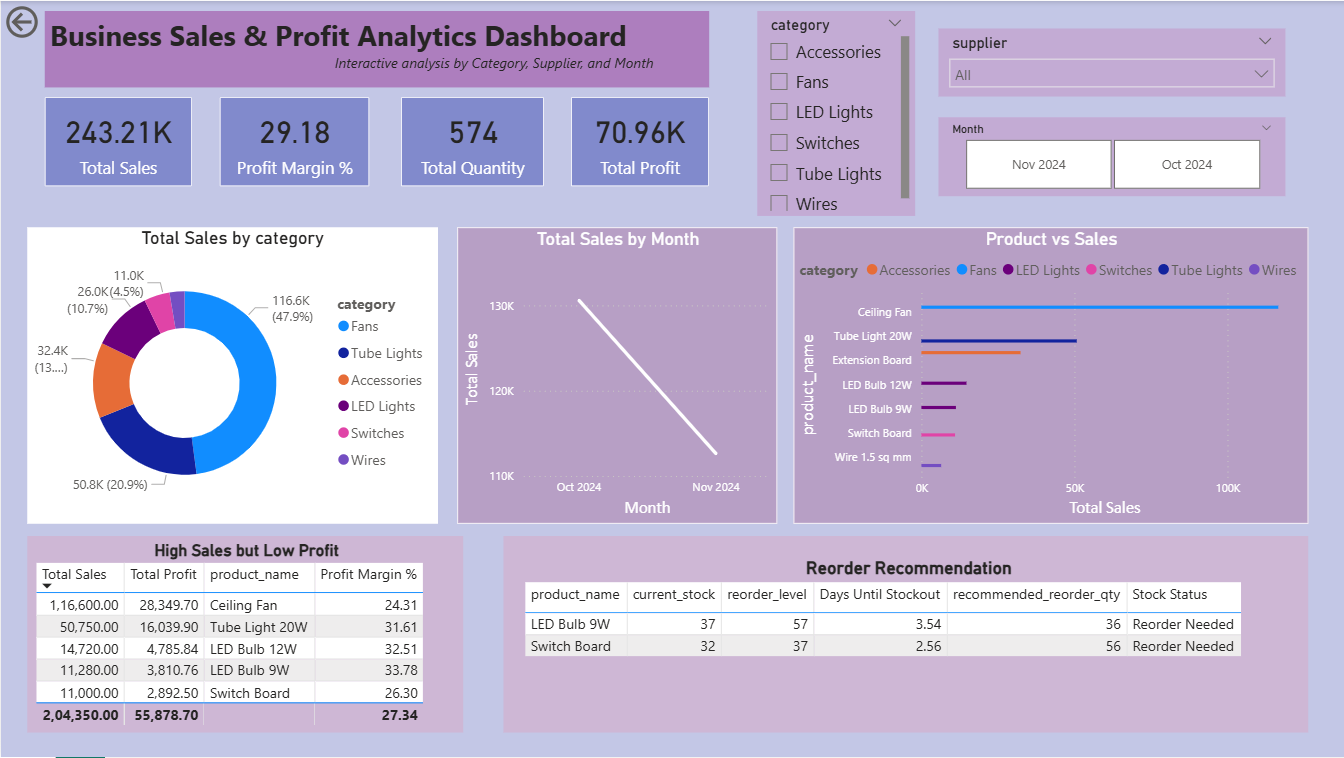

Layout of this report page (visuals, bound fields, positions):
{"tool":"powerbi","page":{"name":"Page 1","canvas":[1280,720],"ordinal":0},"visuals":[{"type":"card","fields":{"Values":["sales_data.Total Sales"]},"box":[41.2,91.2,140,85],"z":0},{"type":"card","fields":{"Values":["sales_data.Total Profit"]},"box":[542.5,91.2,131.2,85],"z":1000},{"type":"card","fields":{"Values":["sales_data.Total Quantity"]},"box":[381.2,91.2,136.2,85],"z":2000},{"type":"card","fields":{"Values":["sales_data.Profit Margin %"]},"box":[208.8,91.2,142.5,85],"z":3000},{"type":"tableEx","title":"High Sales but Low Profit","fields":{"Values":["sales_data.Total Sales","sales_data.Total Profit","sales_data.product_name","sales_data.Profit Margin %"]},"box":[25,510,415,187.5],"z":4000},{"type":"tableEx","title":"Reorder Recommendation","fields":{"Values":["inventory_data.product_name","inventory_data.current_stock","inventory_data.reorder_level","inventory_data.Days Until Stockout","inventory_data.recommended_reorder_qty","inventory_data.Stock Status"]},"box":[478.8,510,766.2,187.5],"z":5000},{"type":"actionButton","box":[0,0,100,40],"z":6000},{"type":"lineChart","fields":{"Category":["sales_data.Month"],"Y":["sales_data.Total Sales"]},"box":[435,215,305,282.5],"z":7000},{"type":"clusteredBarChart","title":"Product vs Sales","fields":{"Category":["sales_data.product_name"],"Y":["sales_data.Total Sales"],"Series":["sales_data.category"]},"box":[755,215,490,282.5],"z":8000},{"type":"slicer","fields":{"Values":["sales_data.category"]},"box":[720,10,150,195],"z":9000},{"type":"slicer","fields":{"Values":["sales_data.supplier"]},"box":[892.5,26.2,330,65],"z":10000},{"type":"slicer","fields":{"Values":["sales_data.Month"]},"box":[892.5,111.2,330,75],"z":11000},{"type":"donutChart","fields":{"Category":["sales_data.category"],"Y":["sales_data.Total Sales"]},"box":[25,215,391.2,282.5],"z":11001},{"type":"textbox","box":[41.2,10,632.5,72.5],"z":11002}]}

Visuals, with their boxes on the page's 1280x720 design canvas (x1, y1, x2, y2). These are canvas units, not pixel positions in the 1344x758 screenshot, which may show the page scaled, cropped or inside an application window:
card - sales_data.Total Sales: 41:91:181:176
card - sales_data.Total Profit: 542:91:674:176
card - sales_data.Total Quantity: 381:91:517:176
card - sales_data.Profit Margin %: 209:91:351:176
"High Sales but Low Profit" tableEx: 25:510:440:698
"Reorder Recommendation" tableEx: 479:510:1245:698
actionButton: 0:0:100:40
lineChart - sales_data.Month x sales_data.Total Sales: 435:215:740:498
"Product vs Sales" clusteredBarChart: 755:215:1245:498
slicer - sales_data.category: 720:10:870:205
slicer - sales_data.supplier: 892:26:1222:91
slicer - sales_data.Month: 892:111:1222:186
donutChart - sales_data.category x sales_data.Total Sales: 25:215:416:498
textbox: 41:10:674:82
